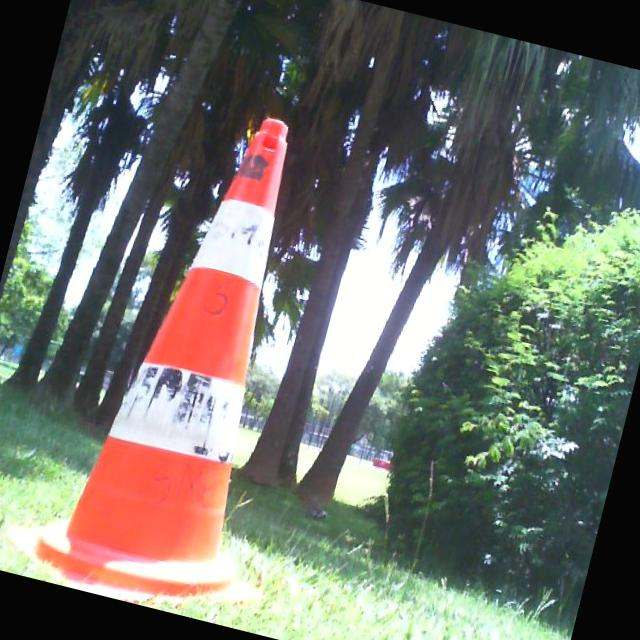Cone: (0, 77, 378, 634)
